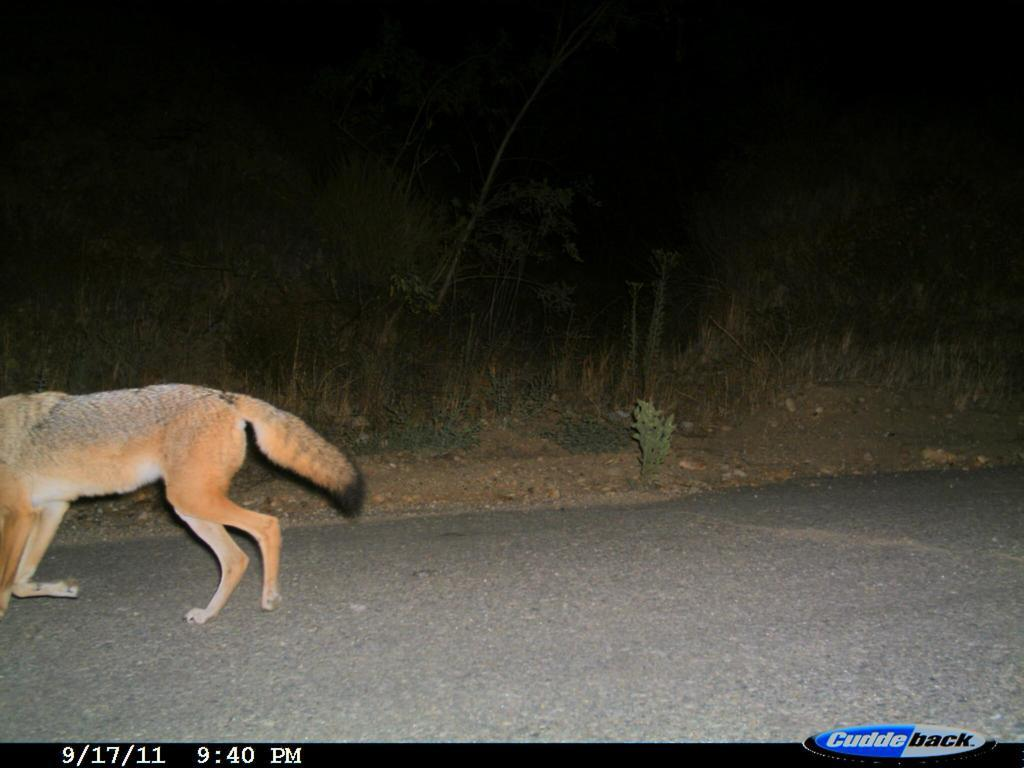coyote: (2, 372, 382, 646)
